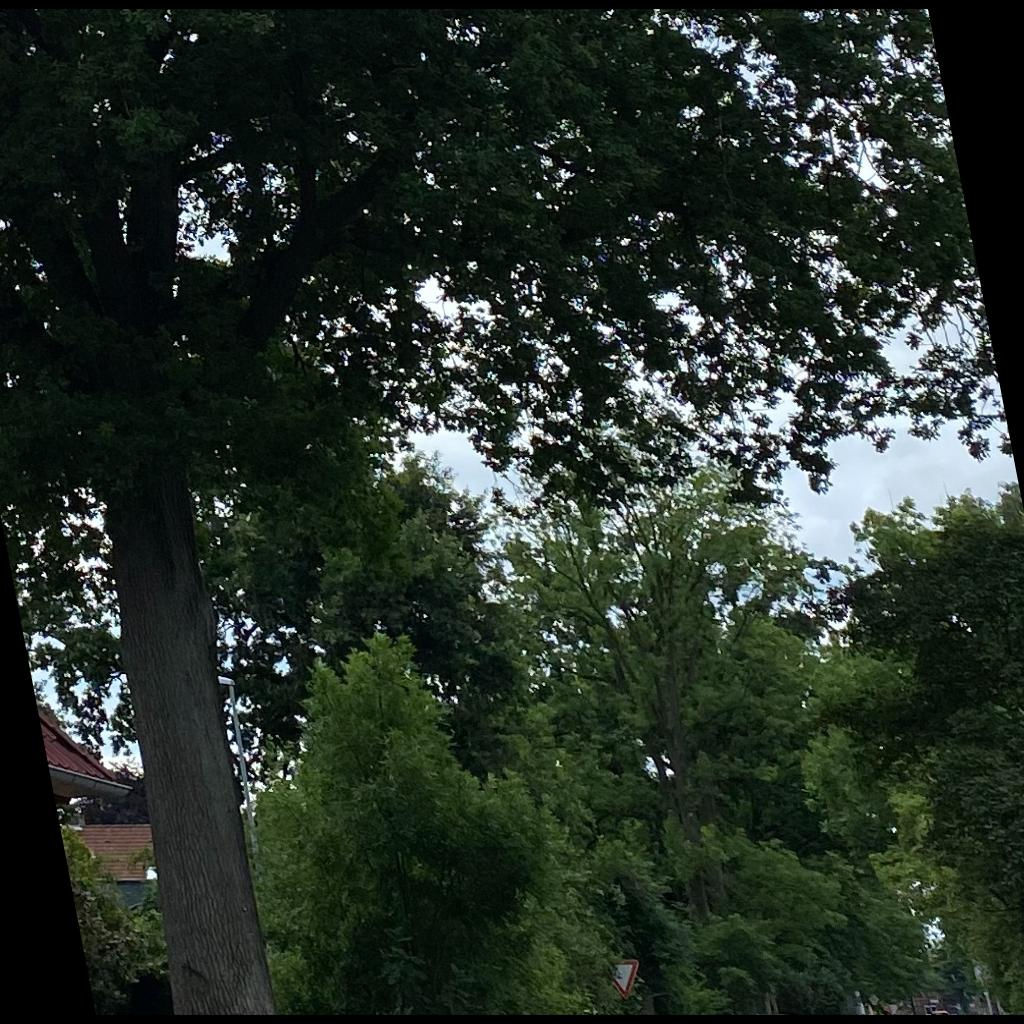tree: (1, 10, 1013, 1014), (463, 451, 924, 1014), (802, 477, 1023, 1017), (194, 448, 528, 761)
